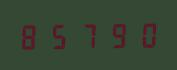eight: (18, 21, 45, 50)
five: (46, 20, 73, 50)
nine: (102, 19, 129, 49)
seven: (74, 20, 101, 49)
zero: (130, 19, 157, 48)
